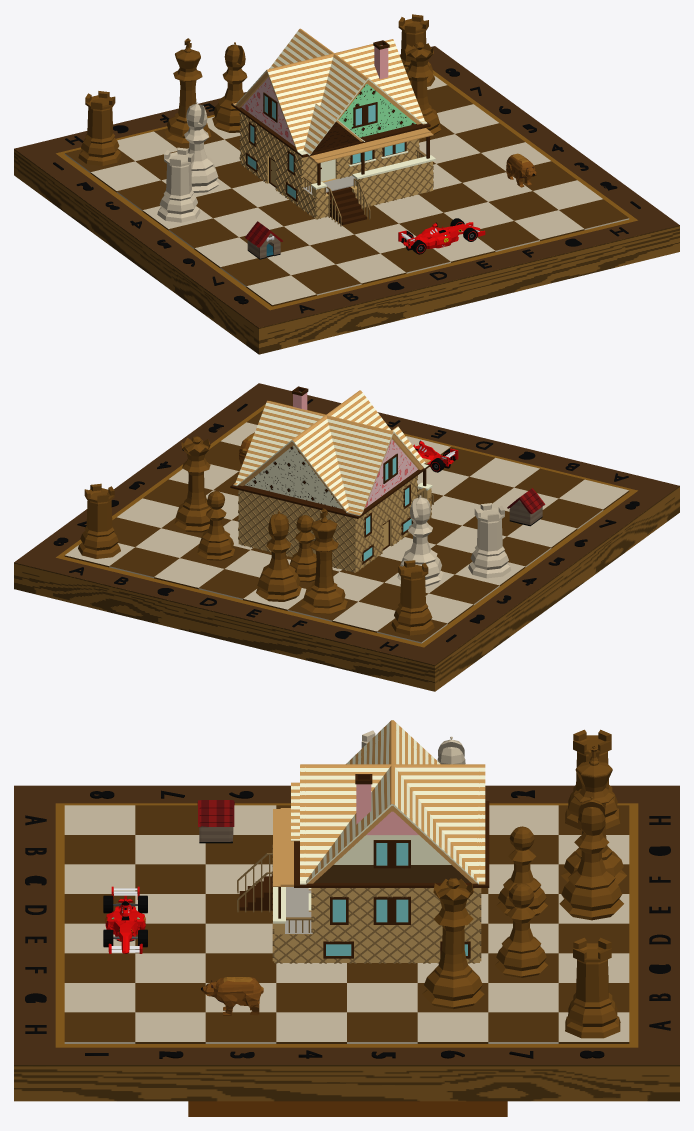
The picture shows the model from 3 angles, top to bottom: view 1: azimuth 30°, elevation 25°; view 2: azimuth 150°, elevation 25°; view 3: azimuth 270°, elevation 25°; orthographic projection. The views are drawn at different scales.
Visible parts, largest first — view 1: Cube.002, Cube.1102, VEHICLES_FORMULA_1, OBJRANDOM_DOGHOUSE, ANIMAL_OSO; view 2: Cube.002, Cube.1102, OBJRANDOM_DOGHOUSE, VEHICLES_FORMULA_1; view 3: Cube.002, Cube.1102, UNDERGROUND_ART_PIECE_VAN_GOGH, VEHICLES_FORMULA_1, ANIMAL_OSO, OBJRANDOM_DOGHOUSE.
Boxes of the visible parts, x1,y1,x2,y2 form: Cube.002: (14,14,679,354); Cube.1102: (231,28,435,226); VEHICLES_FORMULA_1: (398,218,485,254); OBJRANDOM_DOGHOUSE: (245,221,282,259); ANIMAL_OSO: (506,153,536,187); Cube.002: (14,383,679,691); Cube.1102: (230,386,433,572); OBJRANDOM_DOGHOUSE: (507,488,545,526); VEHICLES_FORMULA_1: (413,440,458,472); Cube.002: (14,729,679,1101); Cube.1102: (237,720,489,963); UNDERGROUND_ART_PIECE_VAN_GOGH: (188,1101,507,1116); VEHICLES_FORMULA_1: (103,886,147,953); ANIMAL_OSO: (201,977,263,1015); OBJRANDOM_DOGHOUSE: (197,800,234,843).
Bounding box in the file's own units: 3981 × 1610 × 4012.
Materials: 38 (4 with a texture image).
